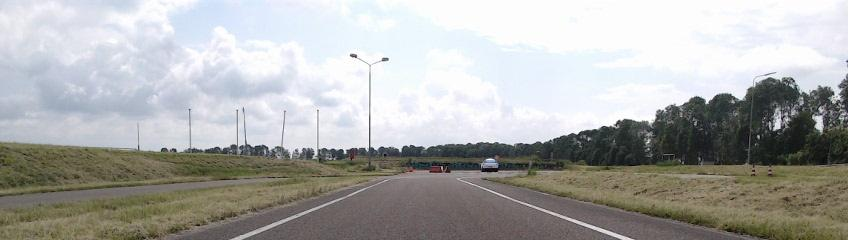Car: (481, 158, 498, 172)
